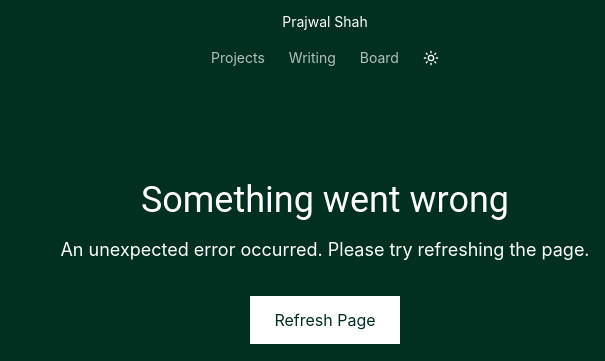
Test case: actual route render failures preserve navigation and recover on navigation
Expected: the heading "Something went wrong" is shown, [141,179,509,221]
Click the link "Projects" at (238, 58), box [211,48,265,68]
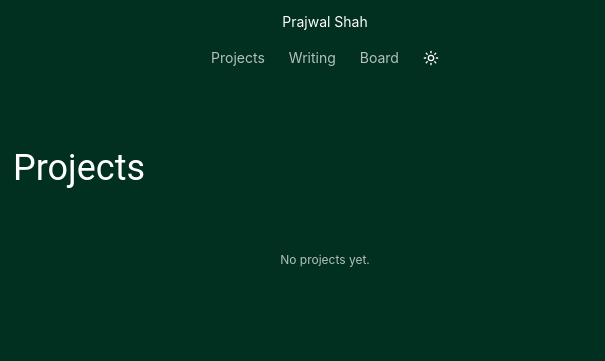
Now the text "No projects yet." is shown, box [280,252,370,267]
Now the heading "Something went wrong" is gone
